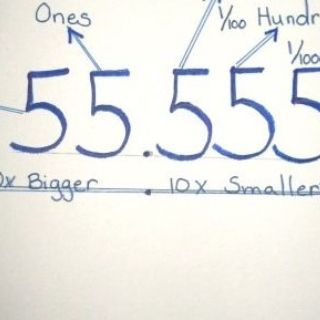.: (142, 146, 153, 159)
5: (155, 64, 213, 164), (8, 67, 71, 158)
